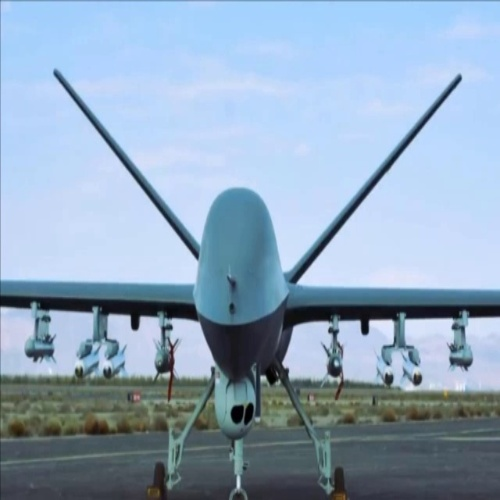uav: (2, 65, 500, 498)
